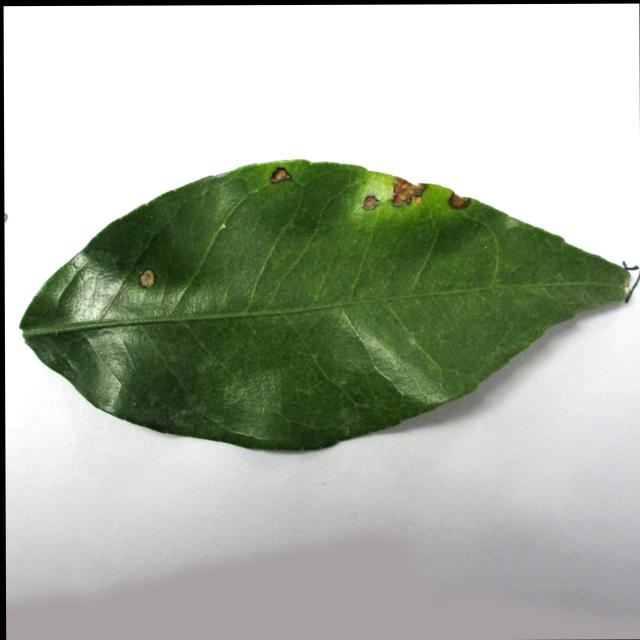antracnose: (20, 160, 630, 450), (393, 178, 427, 205), (270, 167, 291, 183), (449, 193, 470, 209), (139, 269, 156, 288), (362, 194, 379, 210)
